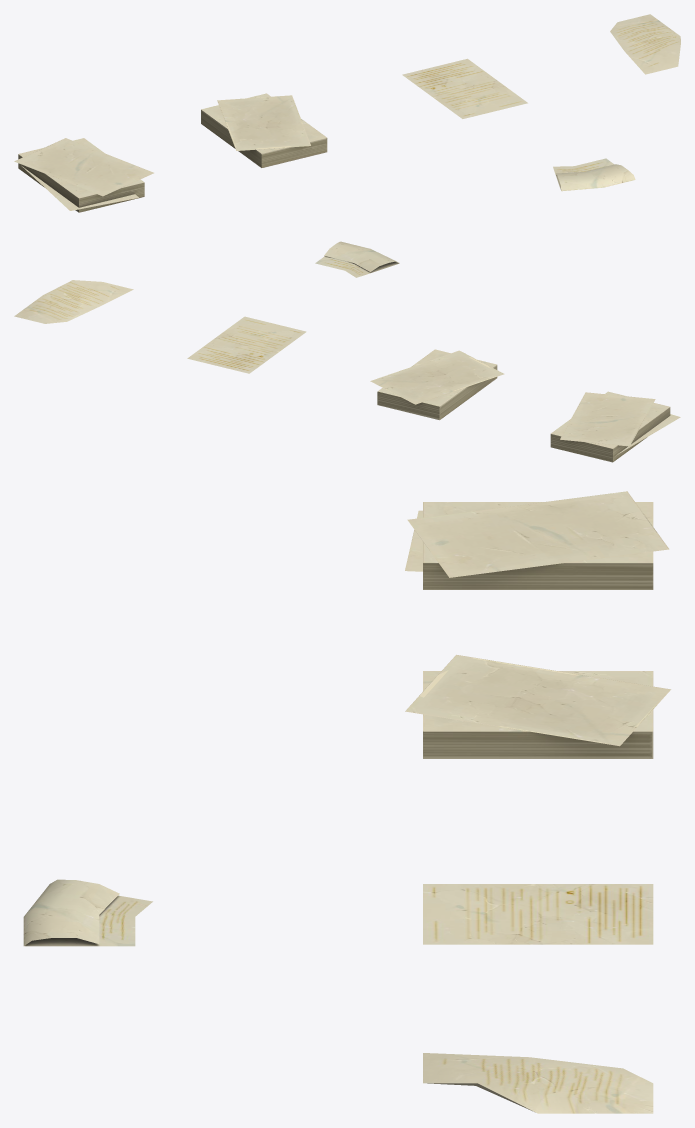
The model's file is Papers.obj.
The picture shows the model from 3 angles, top to bottom: view 1: azimuth 30°, elevation 25°; view 2: azimuth 150°, elevation 25°; view 3: azimuth 270°, elevation 25°; orthographic projection. The views are drawn at different scales.
Visible parts, largest first — view 1: Papers; view 2: Papers; view 3: Papers.
Boxes of the visible parts, <box> form: Papers: <box>14,14,680,212</box>; Papers: <box>14,241,680,462</box>; Papers: <box>23,491,670,1113</box>.
Bounding box in the file's own units: 14.08 × 0.3096 × 6.48.
